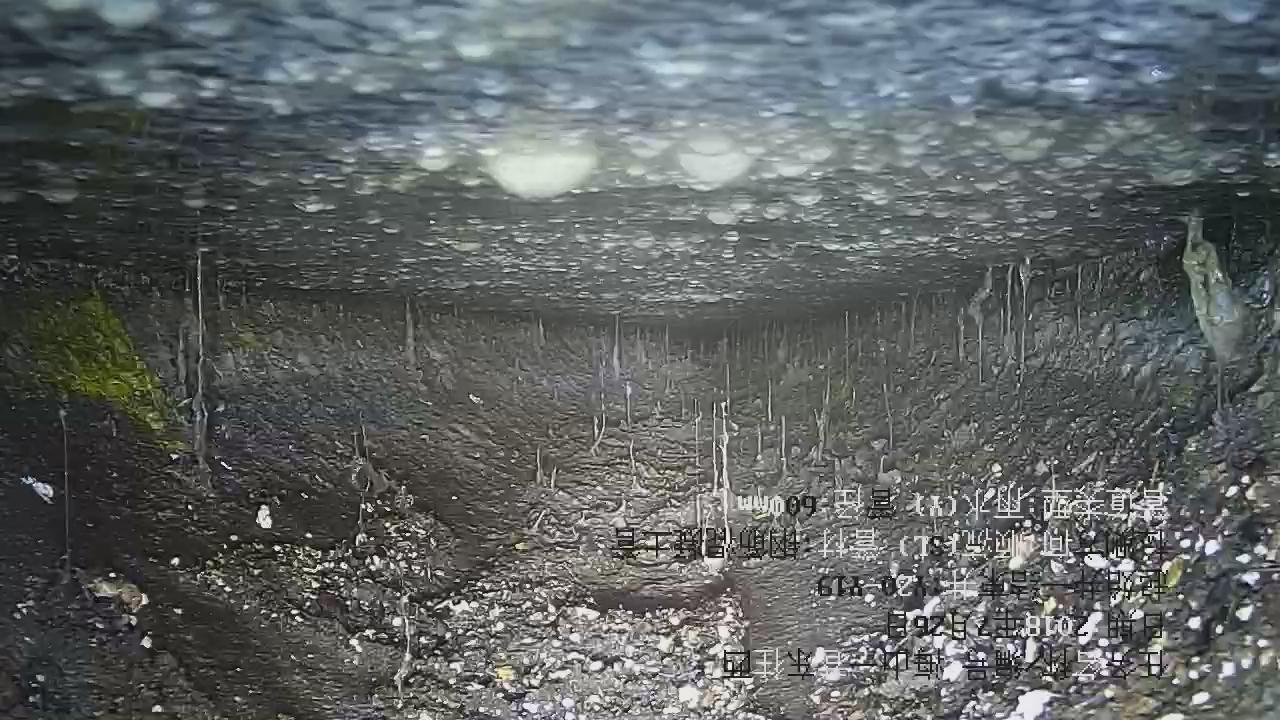FZ: (1, 1, 1280, 322)
JG: (1, 223, 1280, 720)
